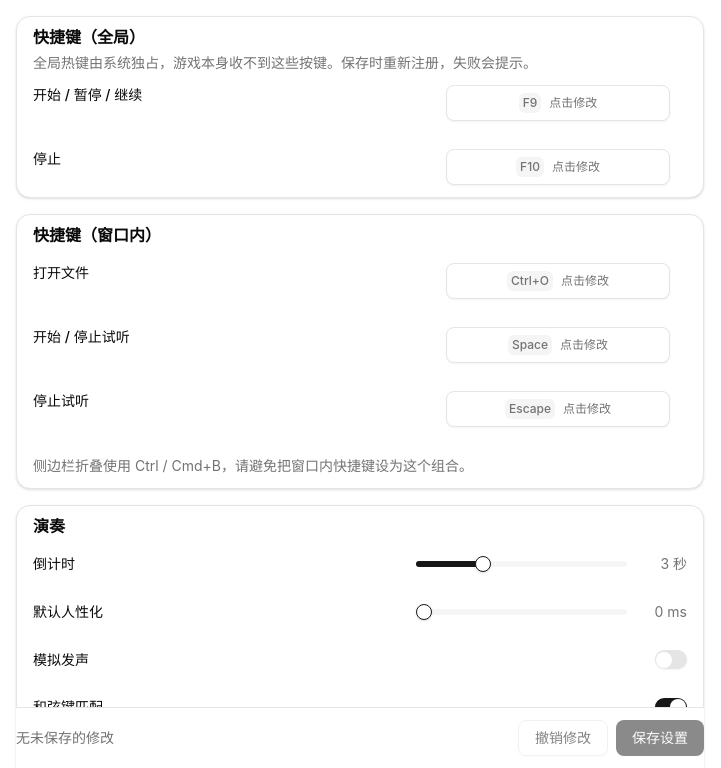
Test: SettingsPage › 跨组冲突（全局热键与窗口内快捷键相同）也标红
The width and height of the screenshot is (721, 768).
Click the button with aria-label "打开文件快捷键". click: [558, 281]
box: [446, 263, 670, 299]
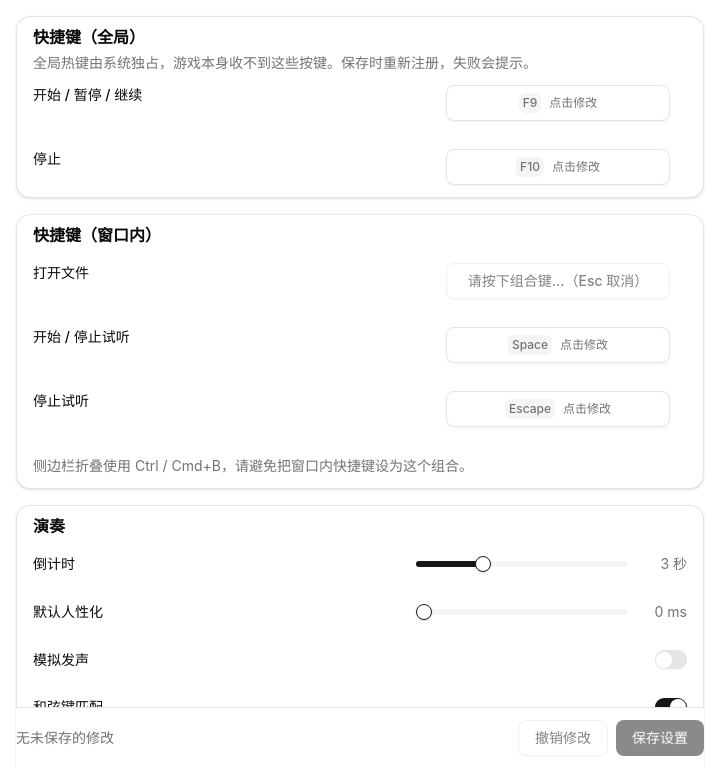
Press F9 in the button with aria-label "打开文件快捷键", box [446, 263, 670, 299]
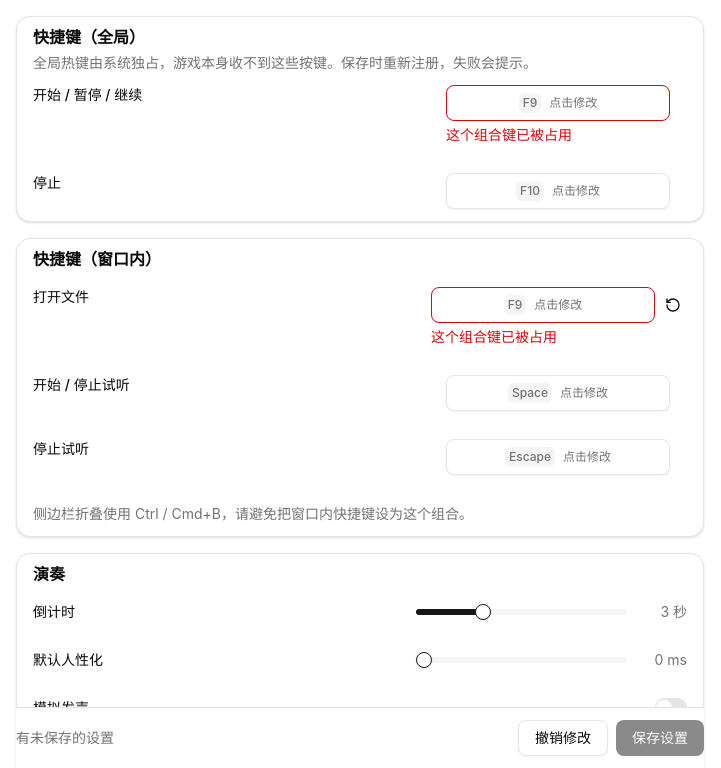
Expected: the button "保存设置" is disabled, [616, 720, 704, 756]
Expected: the text "这个组合键已被占用" is shown 2 times, [446, 126, 572, 143]; [431, 328, 557, 345]
